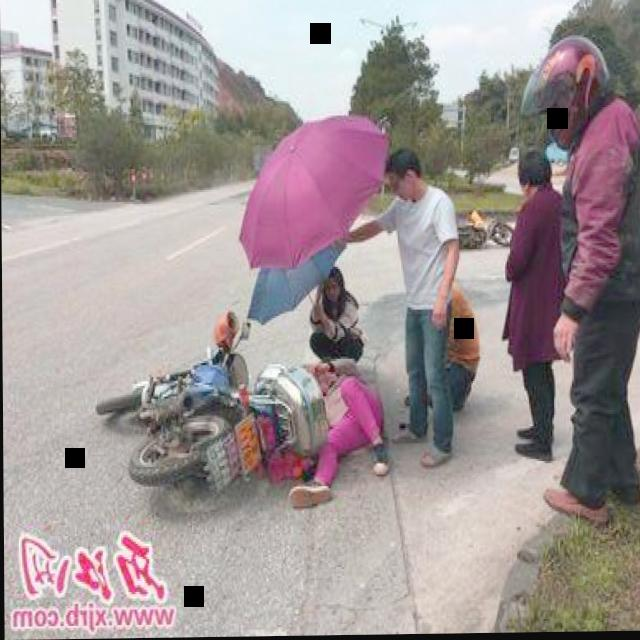Fall-Detected: (286, 342, 396, 514)
